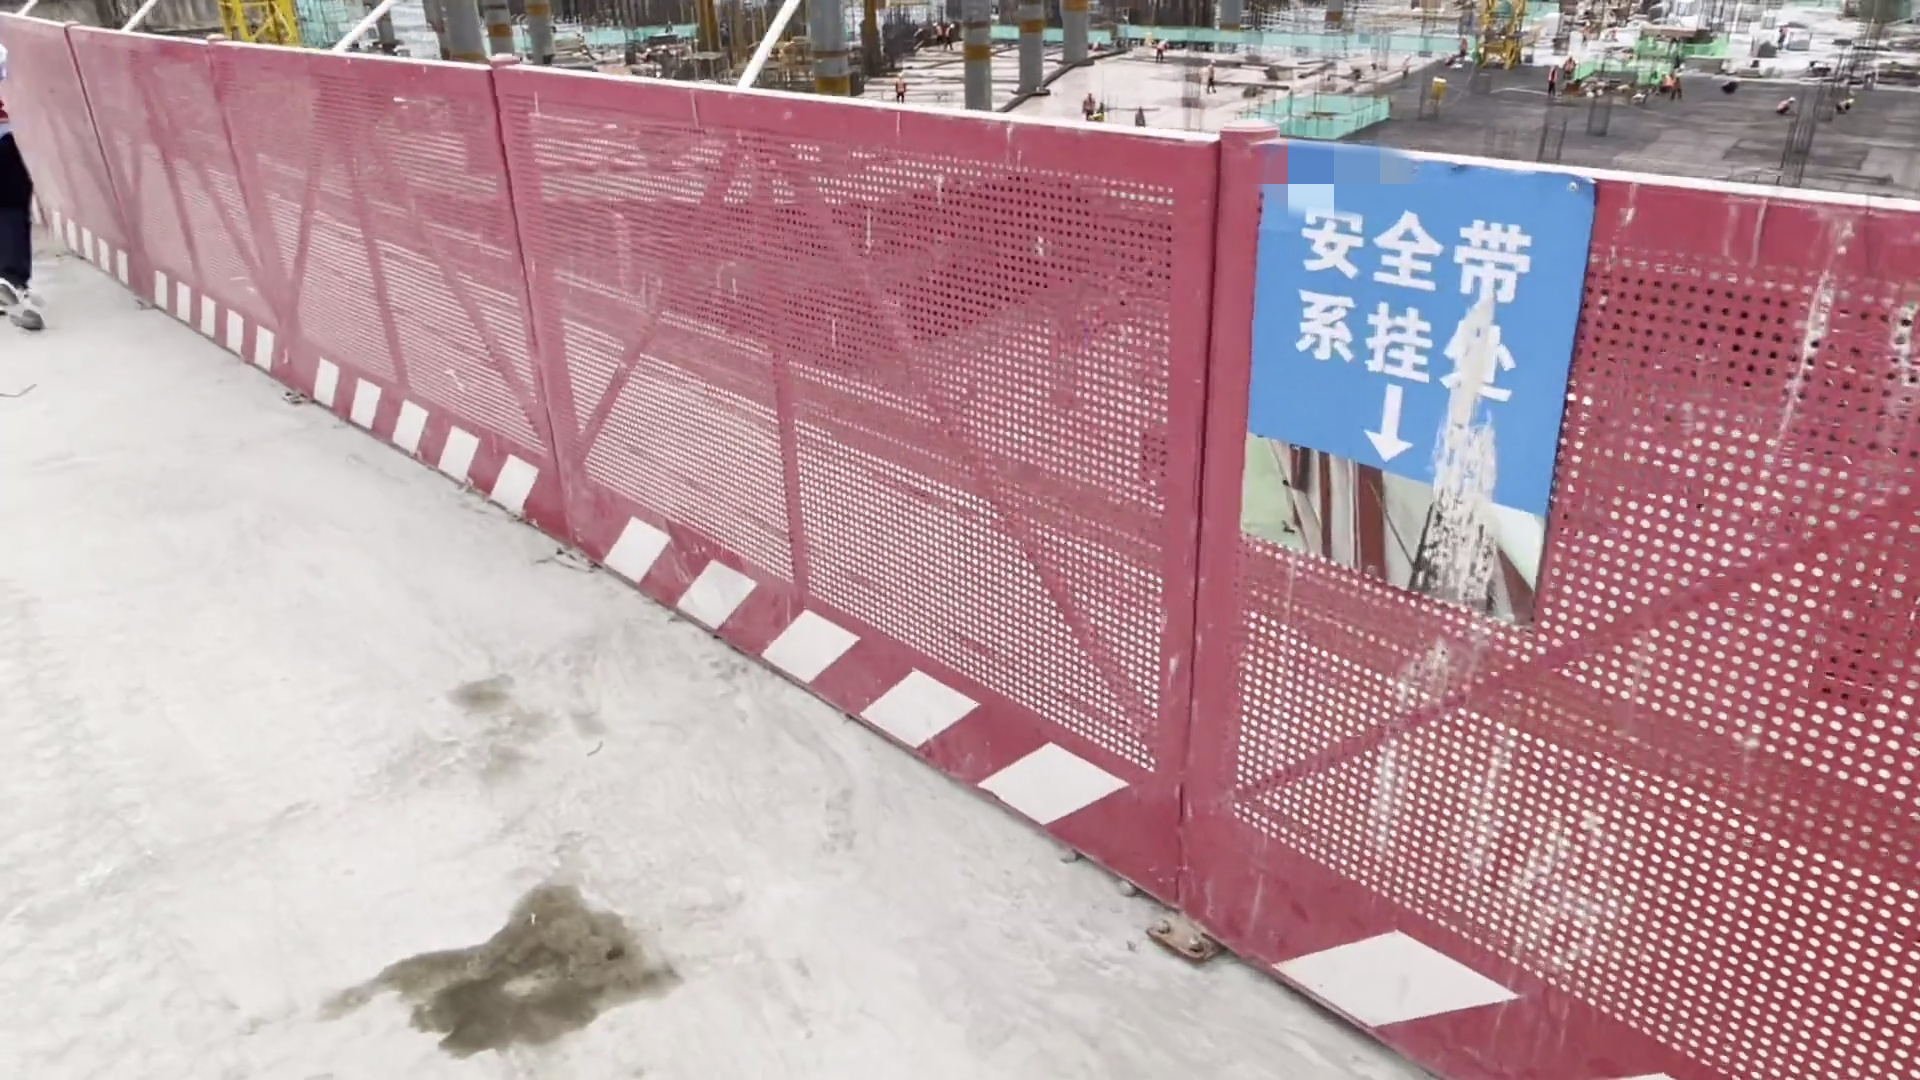fence: (1178, 119, 1916, 1080), (491, 55, 1182, 918), (215, 42, 568, 546), (67, 26, 286, 390)
slogan: (1294, 200, 1527, 430)
